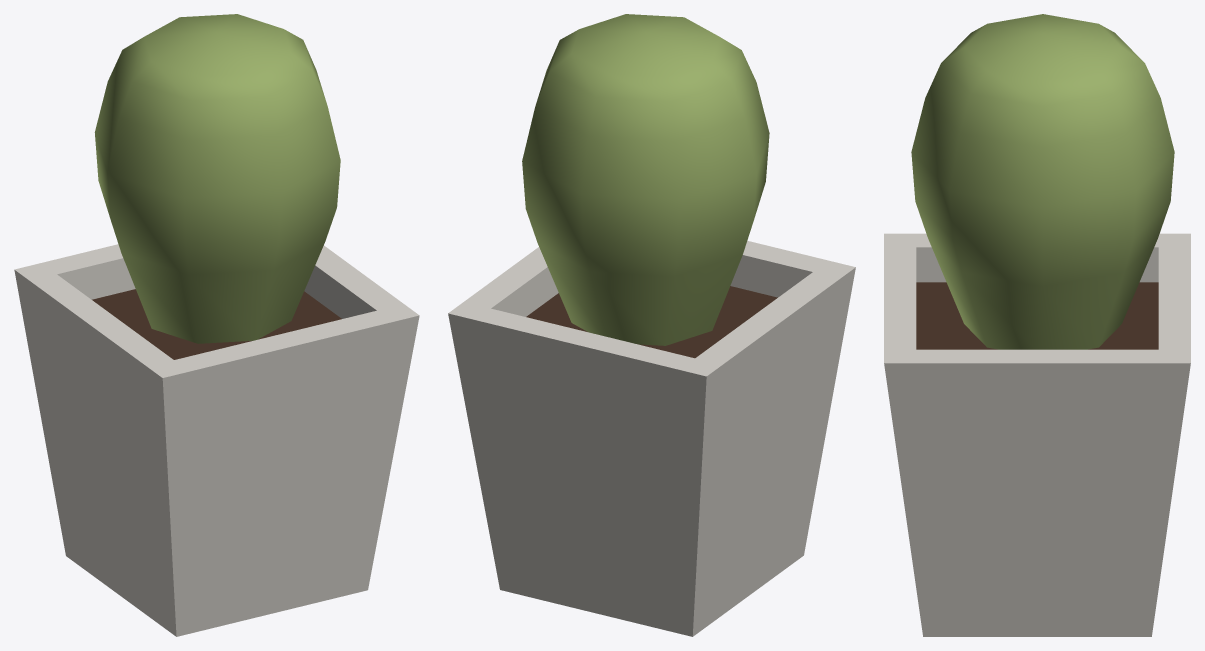
The model's file is plant_pot_2.fbx.
3 renders of one model, left to right at view 1: azimuth 30°, elevation 25°; view 2: azimuth 150°, elevation 25°; view 3: azimuth 270°, elevation 25°, orthographic. The views are drawn at different scales.
Parts seen in each view (by area): view 1: plant_pot; view 2: plant_pot; view 3: plant_pot.
Boxes of the visible parts, bbox=[...] form: plant_pot: bbox=[14, 14, 419, 636]; plant_pot: bbox=[448, 14, 855, 636]; plant_pot: bbox=[884, 14, 1190, 636].
Size of the model in its own units: 0.25 by 0.5 by 0.25.
